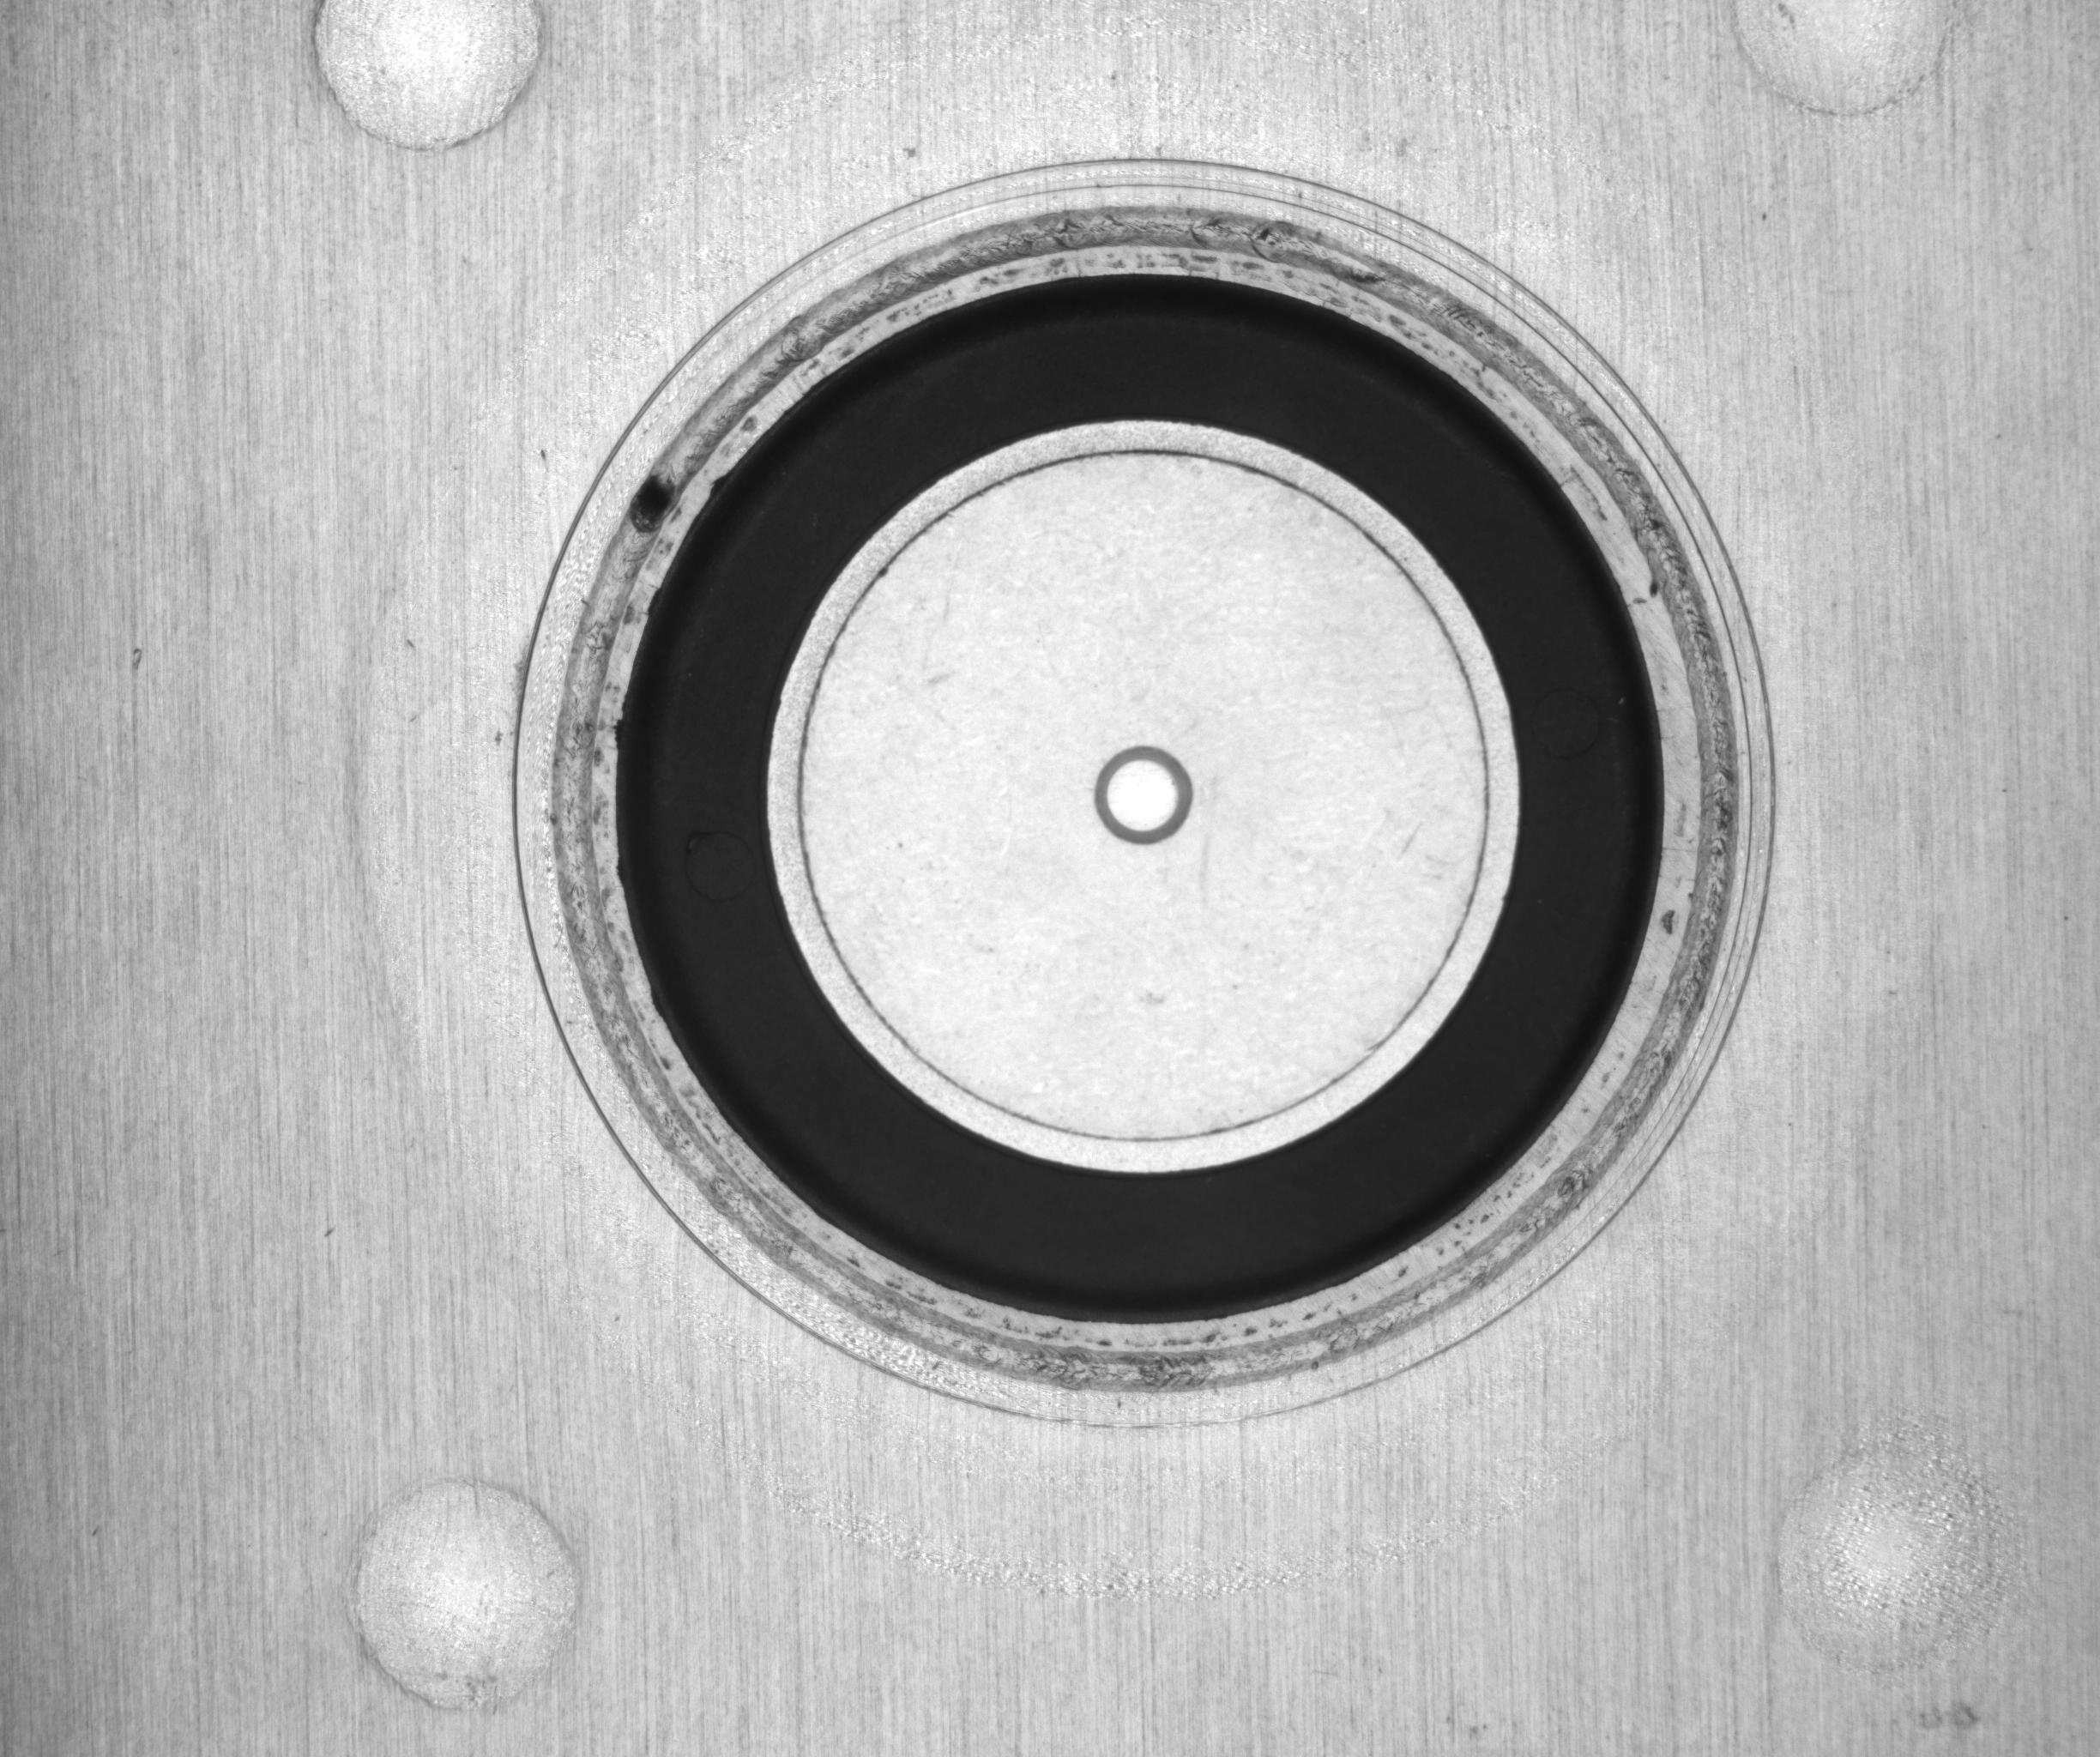weldinghole: (532, 410, 766, 602)
